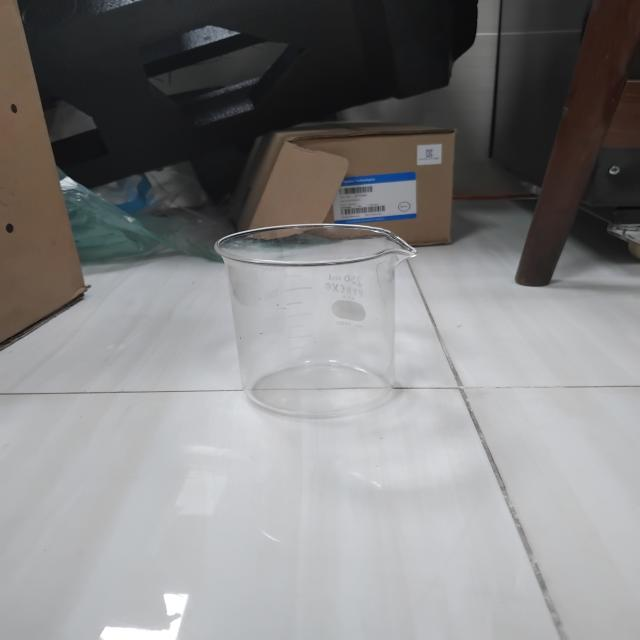Beaker: (178, 186, 460, 439)
